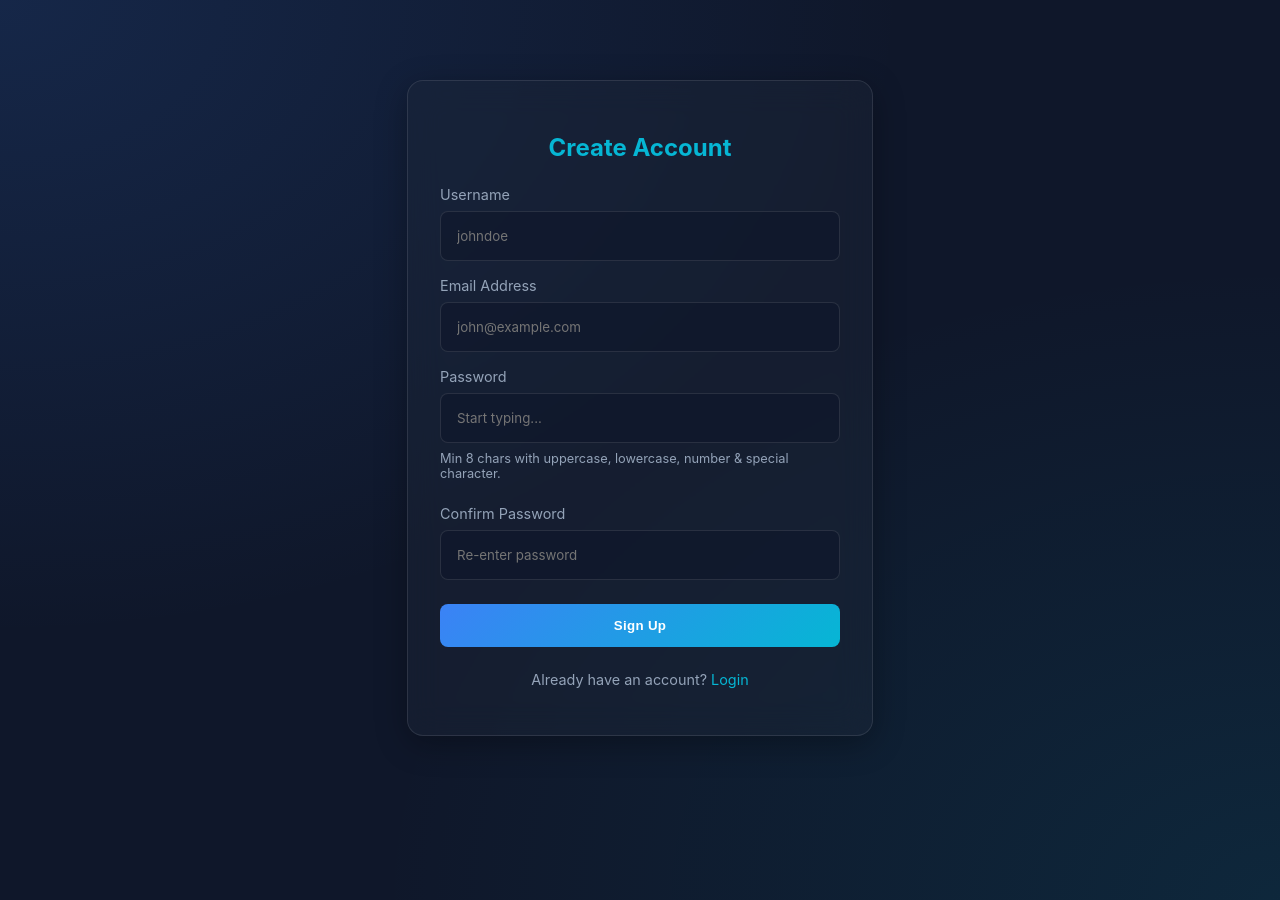
Register Component › validates uppercase requirement
Type "testuser" into the field with placeholder "johndoe" at (640, 236), box [440,211,840,261]
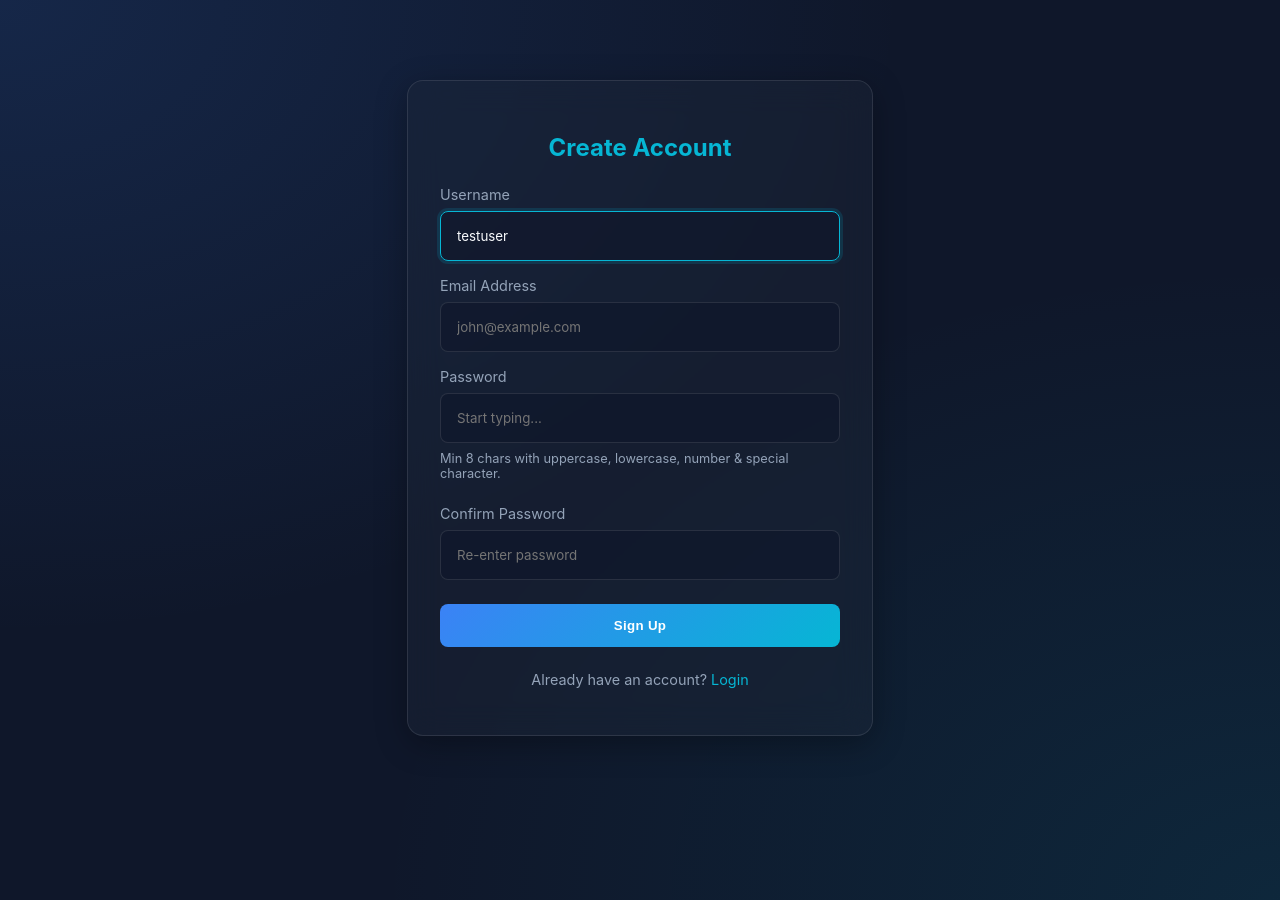
Type "test@example.com" into the field with placeholder "john@example.com" at (640, 327), box [440,302,840,352]
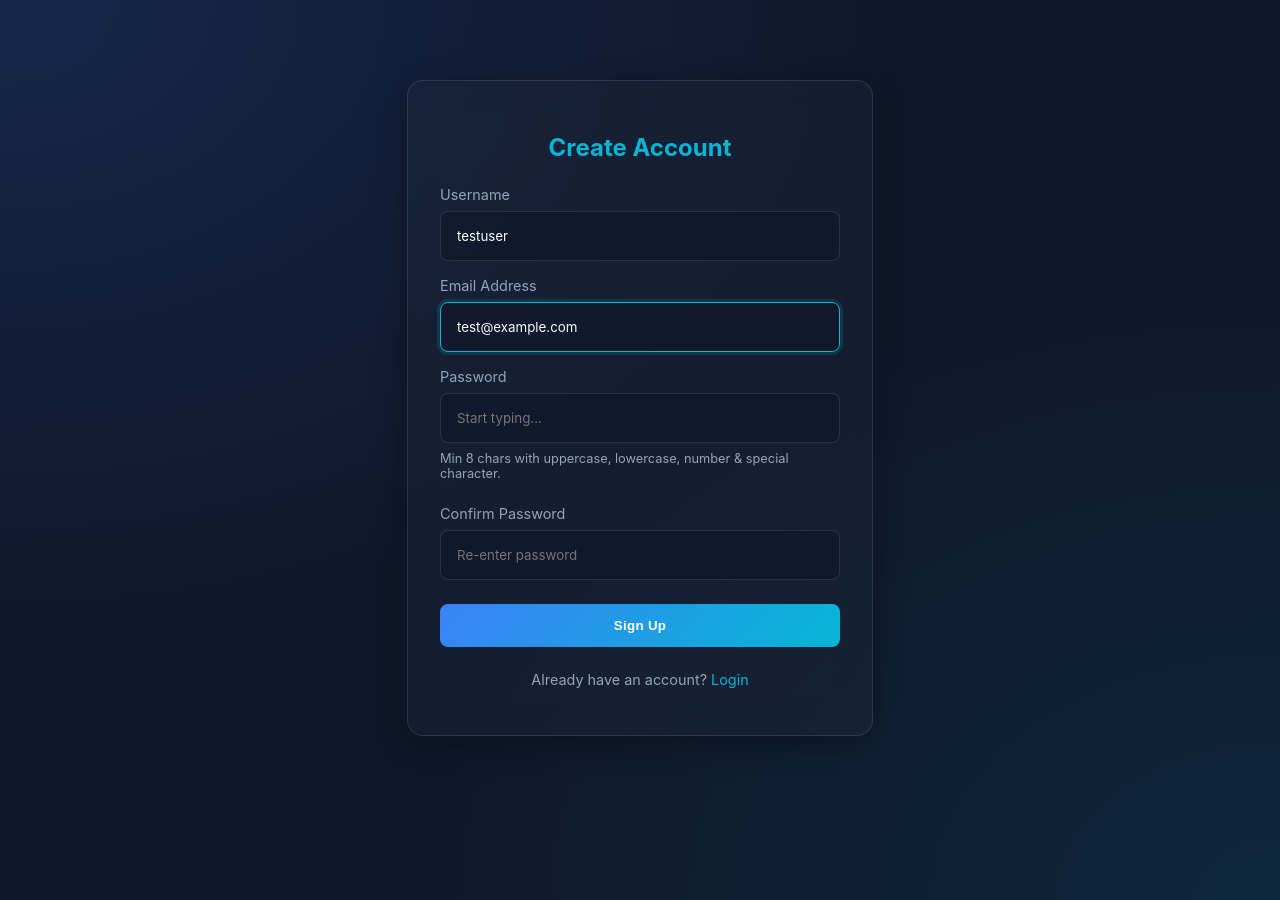
Type "password123!" into the password field with placeholder "Start typing..." at (640, 418), box [440,393,840,443]
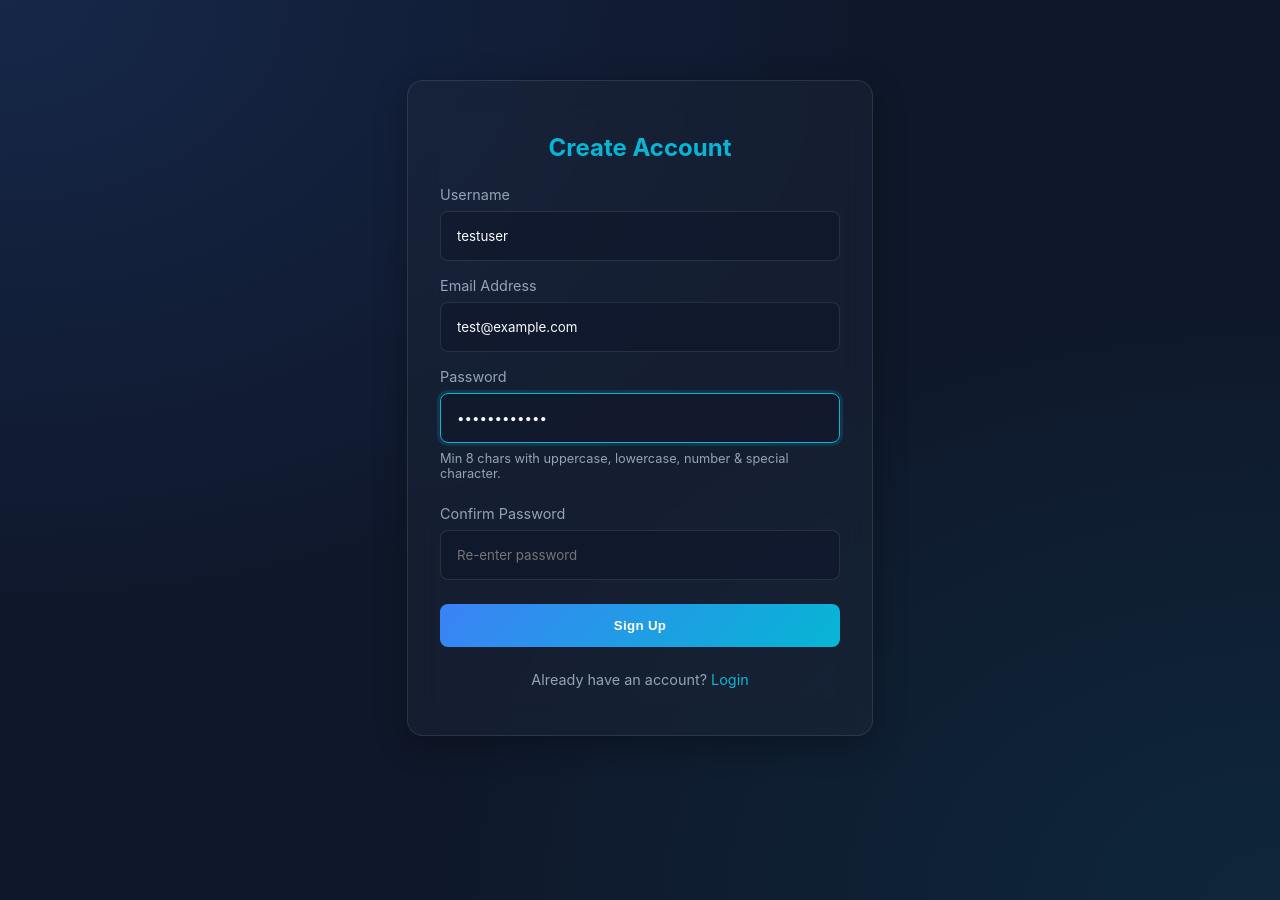
Type "password123!" into the password field with placeholder "Re-enter password" at (640, 555), box [440,530,840,580]
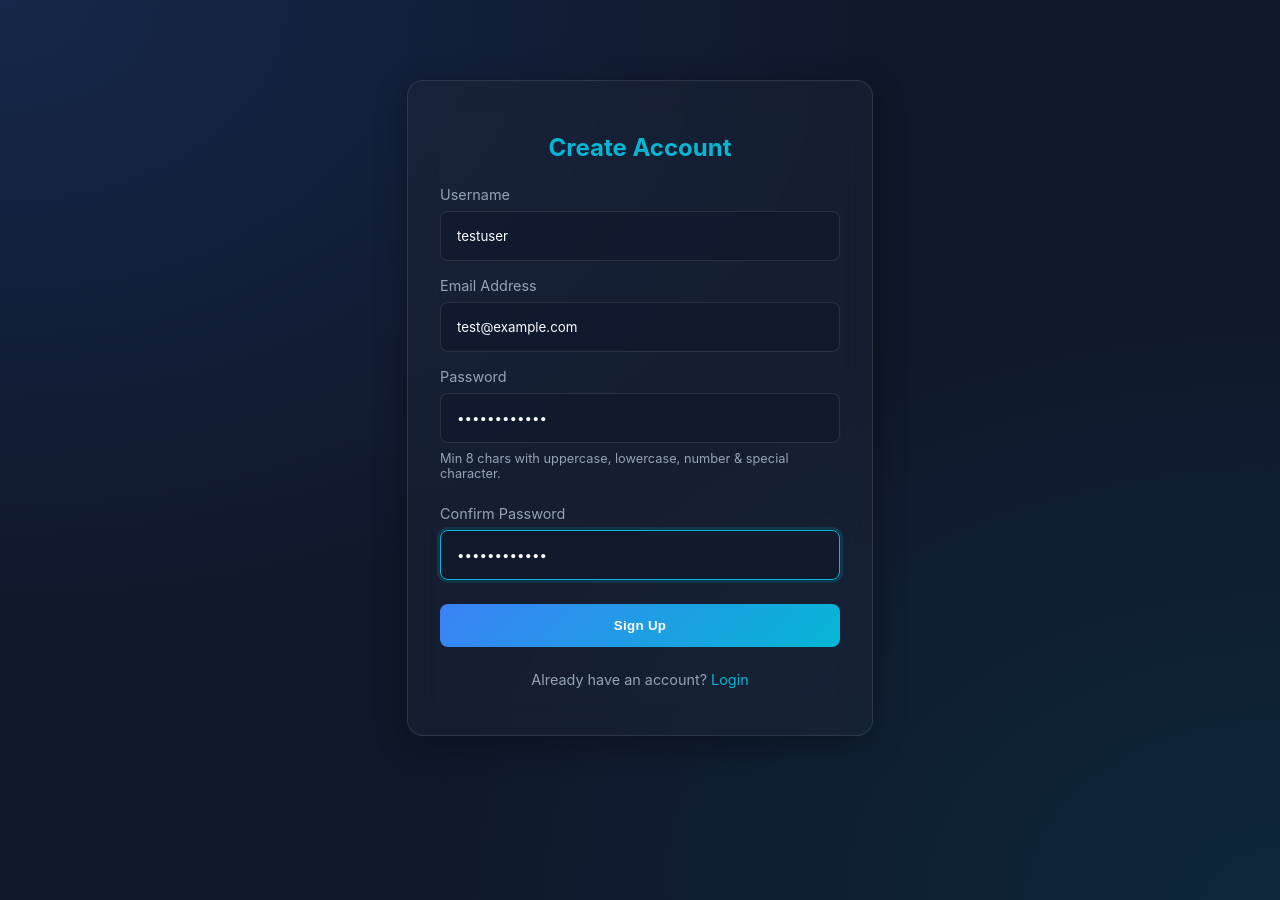
Click the button "Sign Up" at (640, 626), box [440,604,840,647]
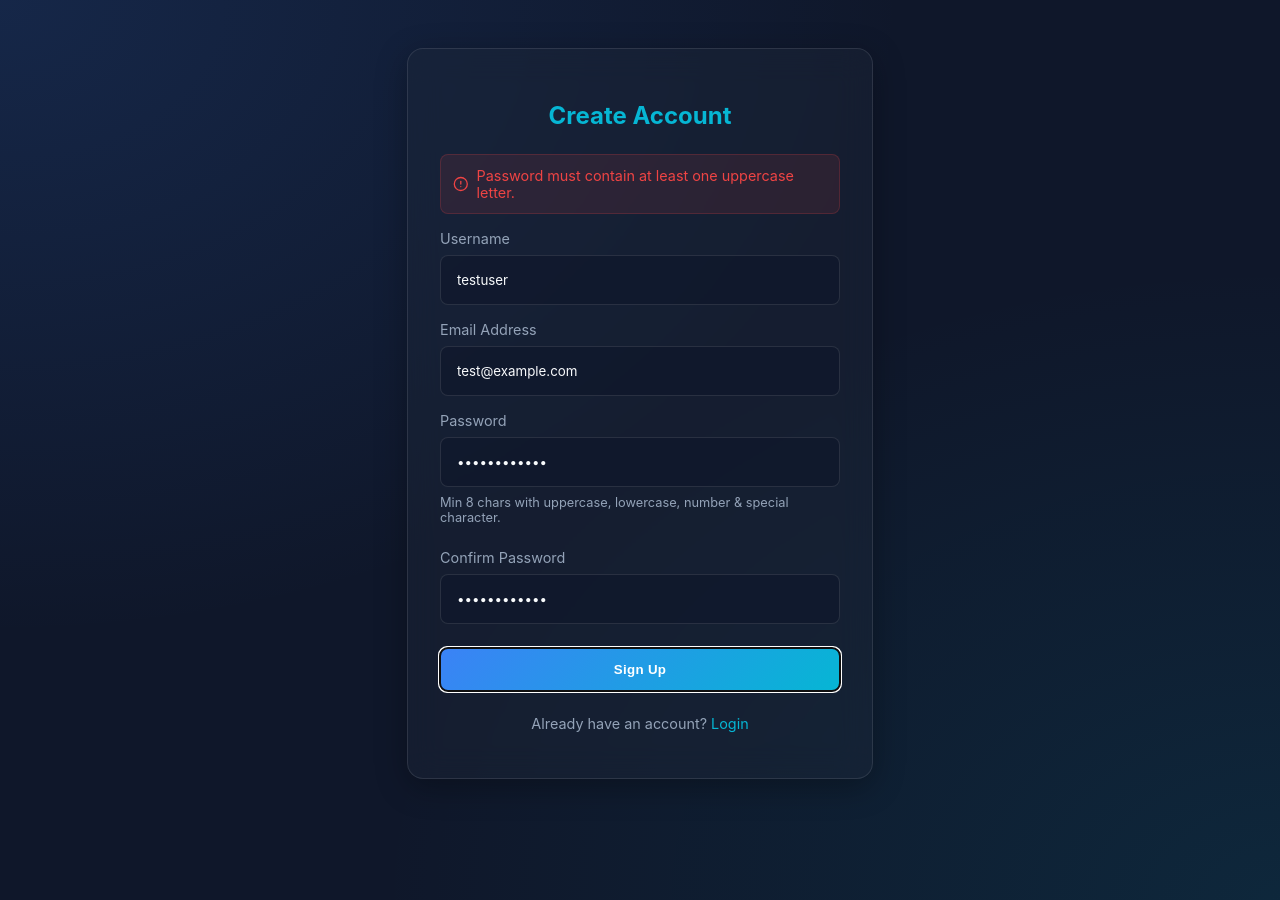
Result: the text "Password must contain at least one uppercase letter." is shown at [440,154,840,214]
